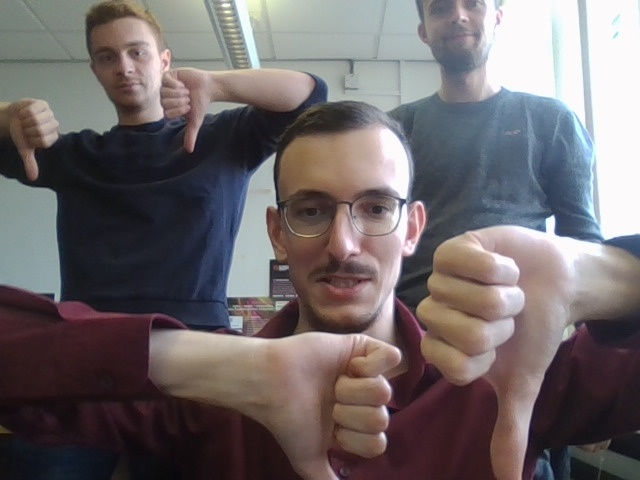thumbdown: (416, 224, 567, 480), (276, 331, 394, 480), (160, 67, 223, 152), (5, 96, 60, 180)
